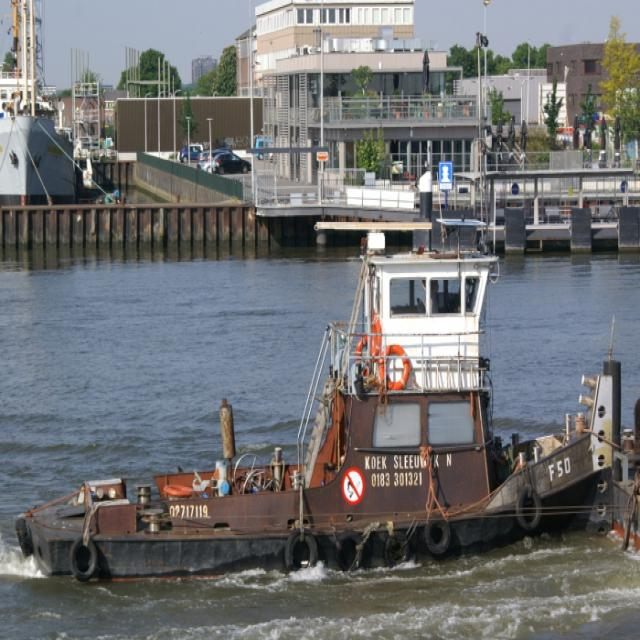tugboat: (12, 192, 636, 599)
